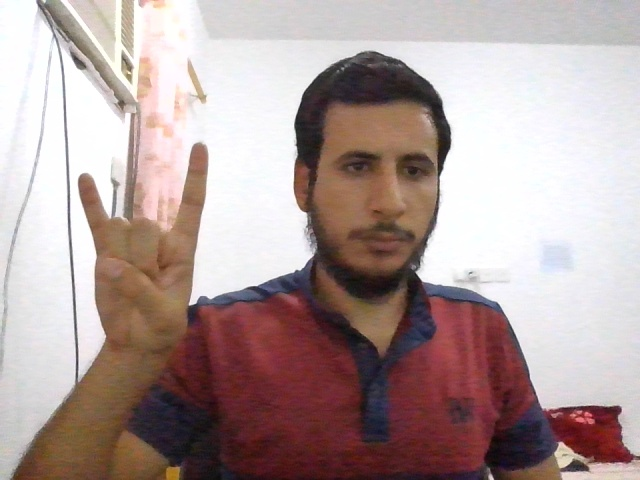Two: (78, 143, 207, 348)
